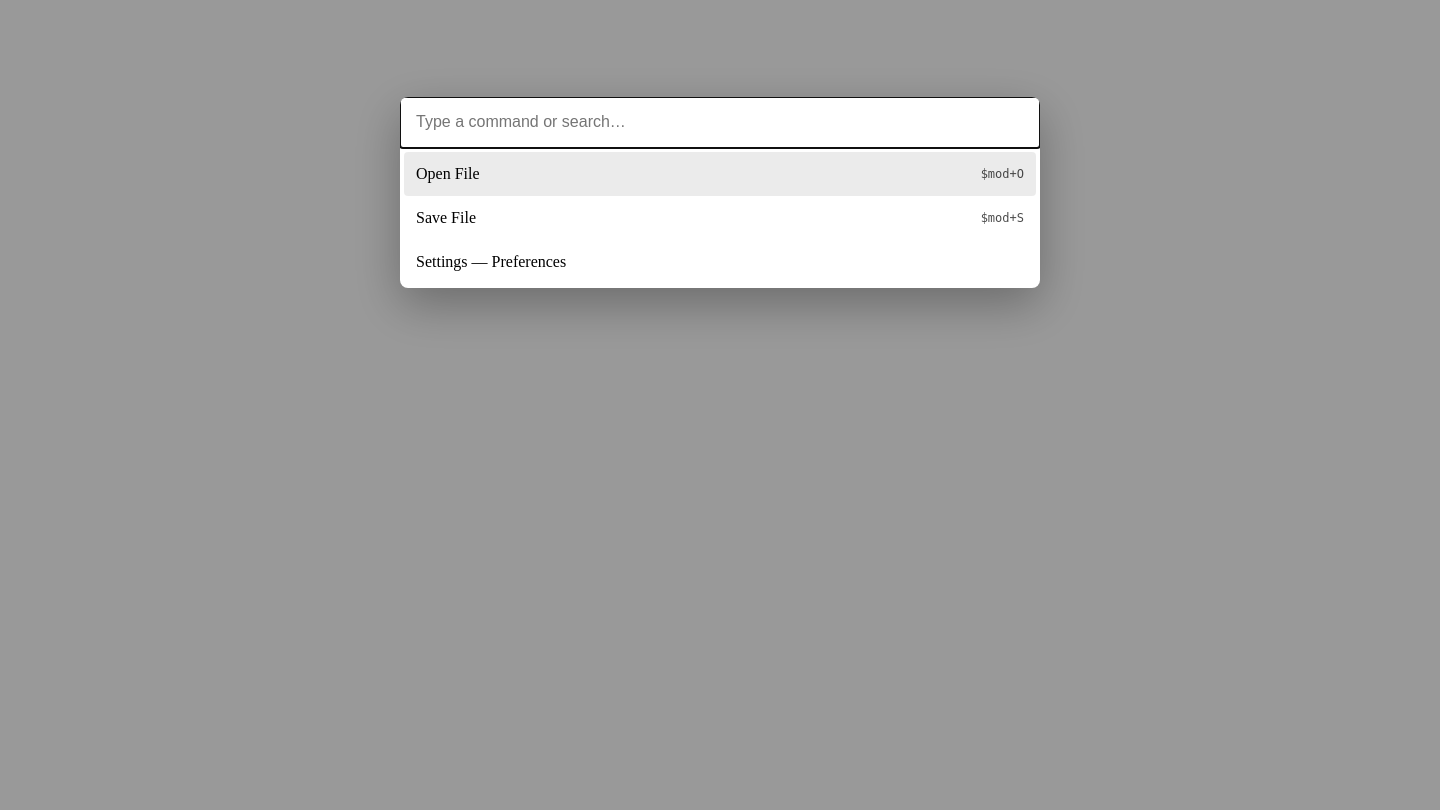
Test case: <CommandPalette> › shows an empty-state option and drops aria-activedescendant when nothing matches
Type "zzzz-no-match" into the dropdown at x=720, y=123, box 400,97 -> 1040,148
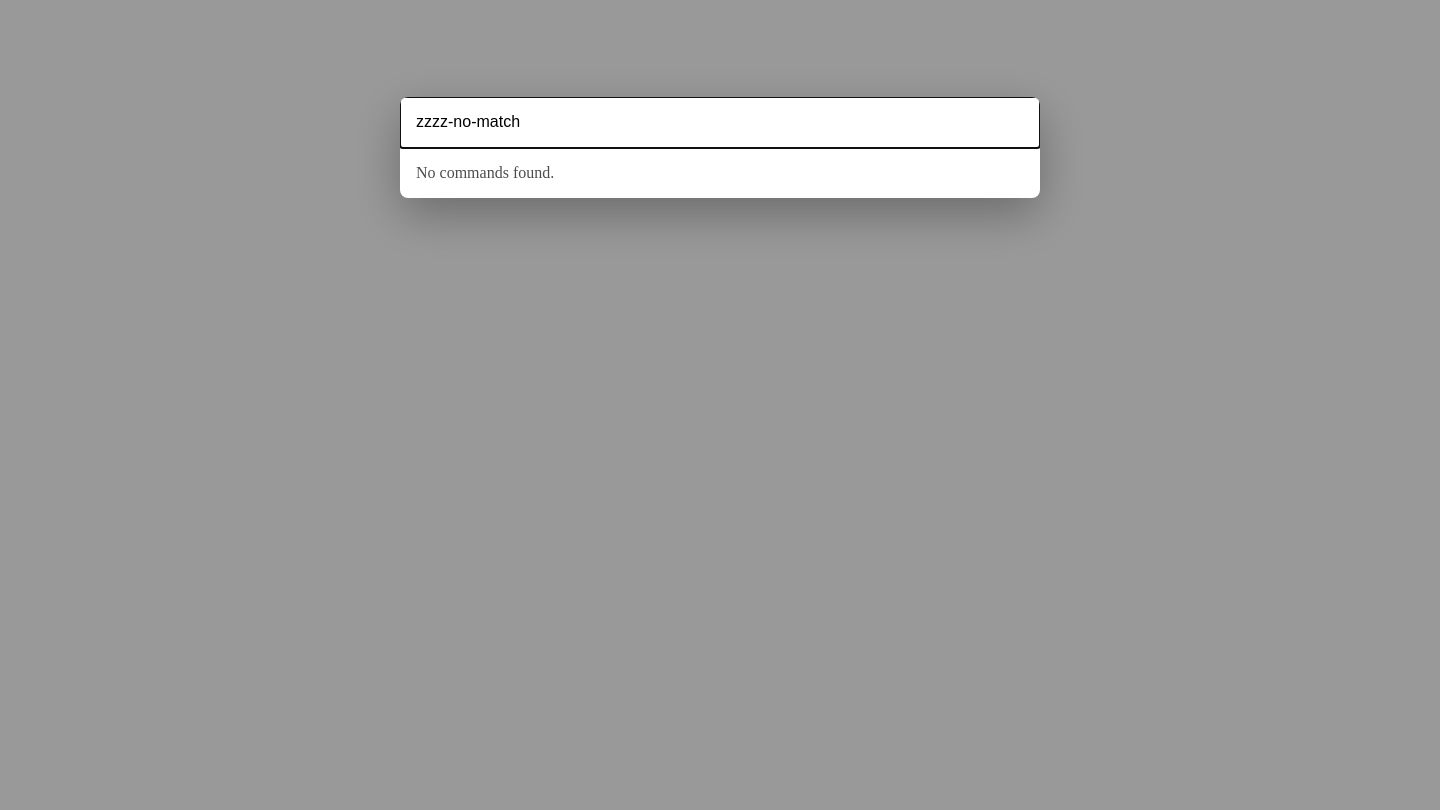
Expected: the number of options is 1, 416,164 -> 554,181
Expected: the option reads "No commands found.", 416,164 -> 554,181
